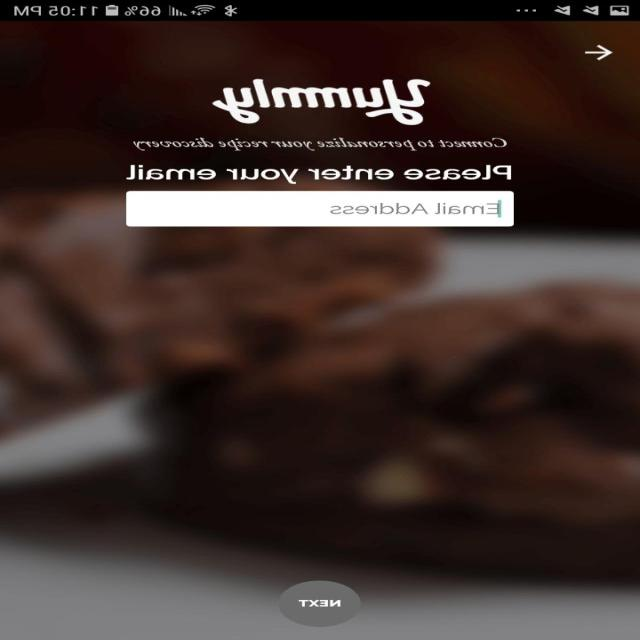BackgroundImage: (1, 21, 640, 639)
EditText: (126, 190, 514, 227)
Icon: (584, 44, 613, 61)
Image: (213, 79, 432, 125)
Text: (126, 164, 512, 184), (133, 137, 508, 151), (330, 202, 500, 215)
TextButton: (279, 580, 362, 627)
